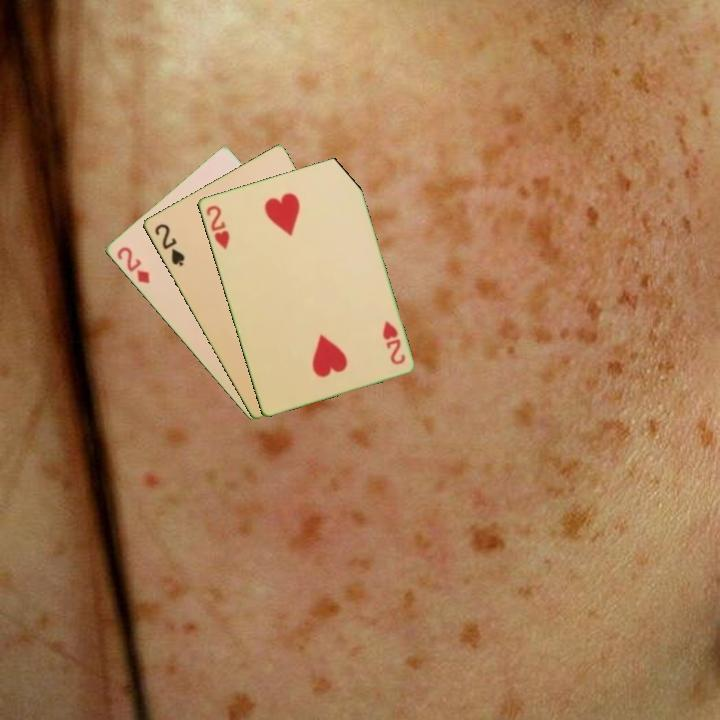2d: (113, 243, 153, 287)
2h: (202, 201, 232, 252), (378, 317, 408, 368)
2s: (151, 220, 187, 269)
